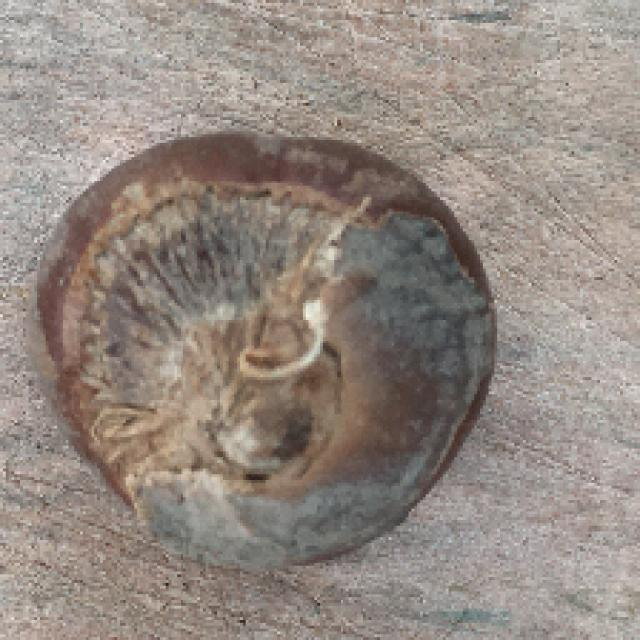damagedHazelnut: (29, 132, 504, 578)
